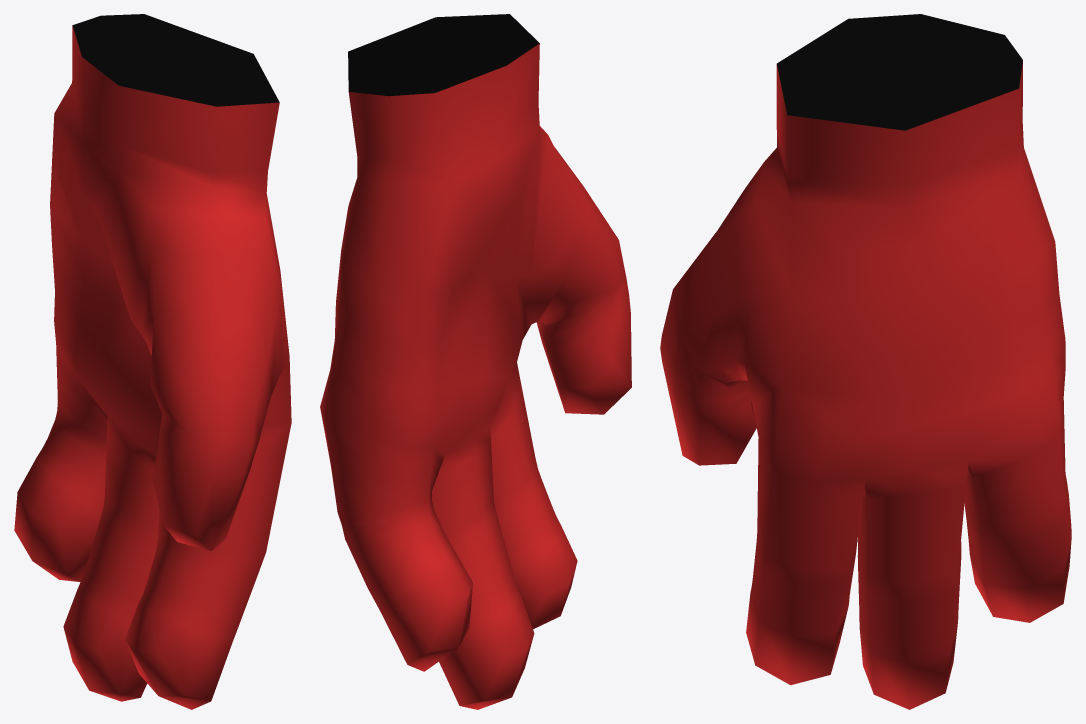
Rendered from hand_r.glb.
The picture shows the model from 3 angles, left to right: view 1: azimuth 30°, elevation 25°; view 2: azimuth 150°, elevation 25°; view 3: azimuth 270°, elevation 25°; orthographic projection. The views are drawn at different scales.
Parts seen in each view (by area): view 1: Object_11; view 2: Object_11; view 3: Object_11.
Part boxes in pixels (x1,y1,x2,y2): Object_11: [14, 14, 291, 709]; Object_11: [320, 14, 631, 709]; Object_11: [660, 14, 1071, 709].
Size of the model in its own units: 0.367 by 1.23 by 0.6749.
